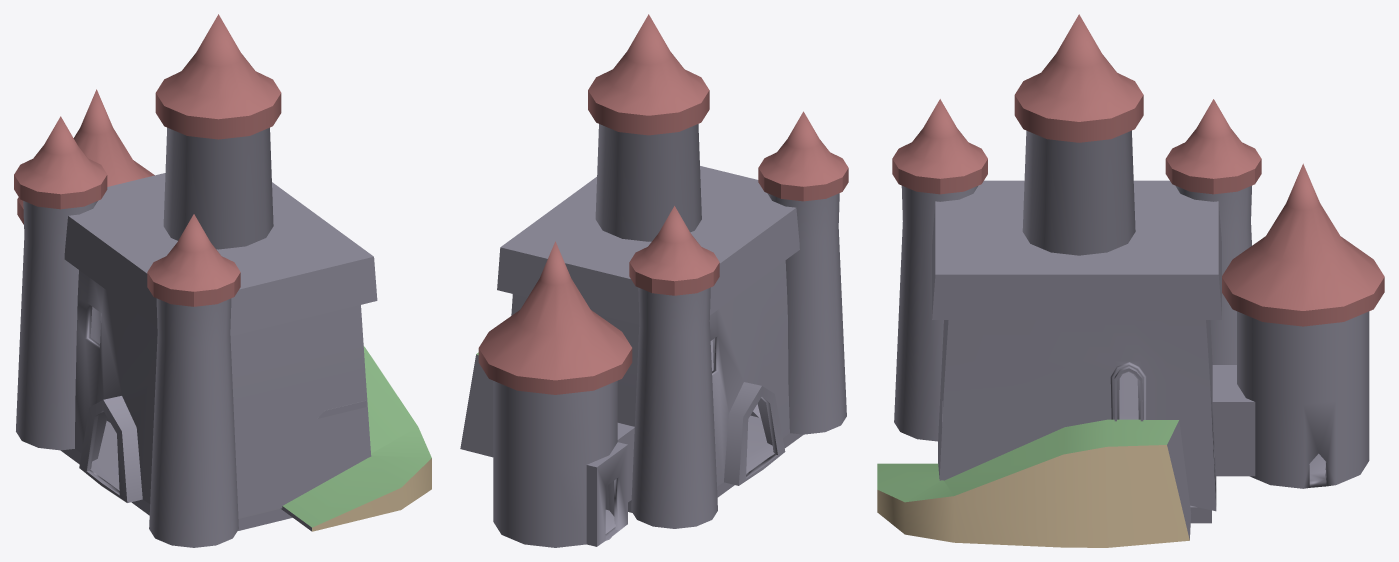
The model's file is 1.Castle.fbx.
3 renders of one model, left to right at view 1: azimuth 30°, elevation 25°; view 2: azimuth 150°, elevation 25°; view 3: azimuth 270°, elevation 25°, orthographic. The views are drawn at different scales.
Parts seen in each view (by area): view 1: 1.Castle; view 2: 1.Castle; view 3: 1.Castle.
Boxes of the visible parts, <box> form: 1.Castle: <box>14,14,431,547</box>; 1.Castle: <box>460,14,848,547</box>; 1.Castle: <box>877,14,1384,547</box>.
Bounding box in the file's own units: 1025 × 1554 × 1524.
